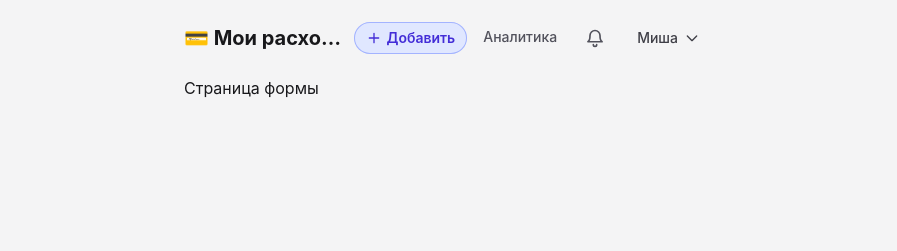
Scenario: AppShell › меню пользователя › смена маршрута закрывает меню
The image size is (897, 251).
Click the button with aria-label "Меню пользователя". click: (669, 38)
box: x1=625 y1=18 x2=712 y2=58
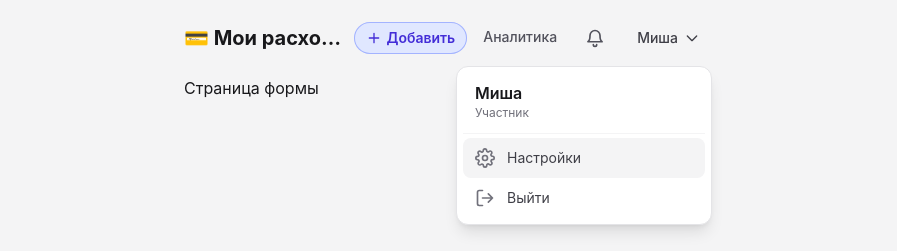
Click the menu item "Настройки". click: (584, 158)
box: x1=463 y1=138 x2=705 y2=178
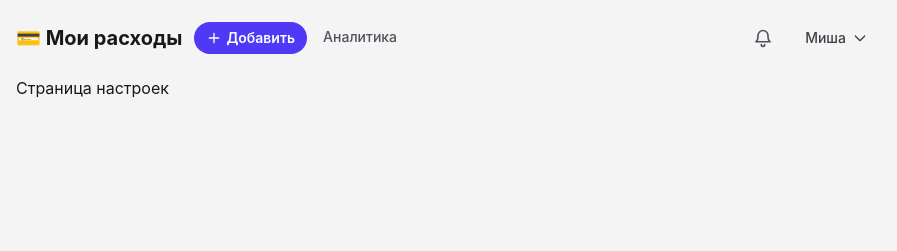
Result: the text "Страница настроек" is shown at x1=16 y1=78 x2=169 y2=98
Result: the menu is gone
